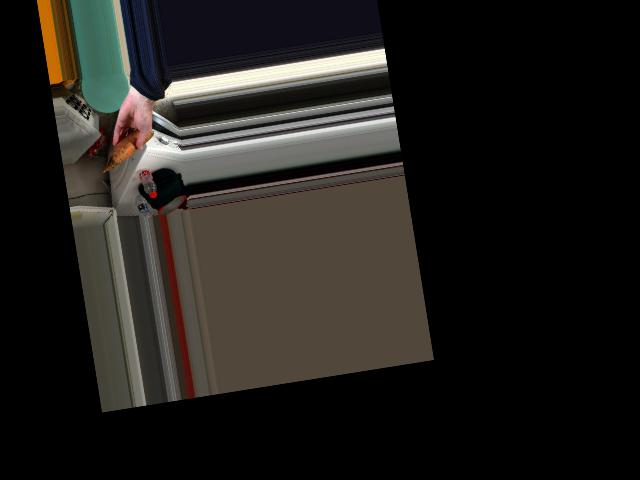sweet_potato: (112, 130, 151, 161)
